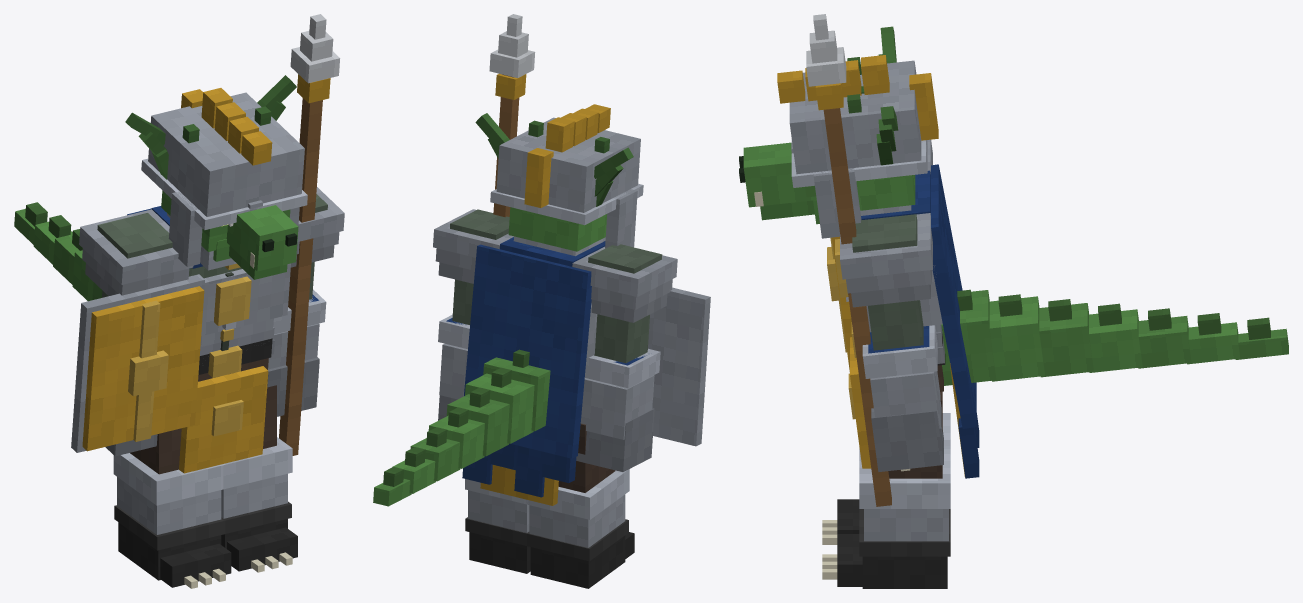
File: lizard_garde_v2.glb
3 renders of one model, left to right at view 1: azimuth 30°, elevation 25°; view 2: azimuth 150°, elevation 25°; view 3: azimuth 270°, elevation 25°, orthographic. The views are drawn at different scales.
Parts seen in each view (by area): view 1: ArmR, Head, Torso, LegR, HandL, LegL, ArmL, Root; view 2: Torso, ArmR, Head, LegR, ArmL, LegL, HandL; view 3: Torso, Head, ArmL, LegL, HandL, ArmR, LegR, Root.
Boxes of the visible parts, x1=… form: ArmR: x1=71, y1=209, x2=204, y2=456; Head: x1=125, y1=75, x2=307, y2=279; Torso: x1=14, y1=202, x2=290, y2=473; LegR: x1=113, y1=428, x2=231, y2=587; HandL: x1=279, y1=14, x2=340, y2=455; LegL: x1=221, y1=385, x2=297, y2=571; ArmL: x1=267, y1=187, x2=344, y2=416; Root: x1=184, y1=552, x2=292, y2=588; Torso: x1=373, y1=237, x2=605, y2=506; ArmR: x1=572, y1=244, x2=710, y2=471; Head: x1=475, y1=104, x2=643, y2=256; LegR: x1=526, y1=423, x2=634, y2=588; ArmL: x1=433, y1=209, x2=513, y2=420; LegL: x1=465, y1=479, x2=530, y2=573; HandL: x1=489, y1=14, x2=535, y2=217; Torso: x1=835, y1=164, x2=1288, y2=478; Head: x1=739, y1=26, x2=938, y2=238; ArmL: x1=840, y1=213, x2=943, y2=471; LegL: x1=837, y1=391, x2=950, y2=588; HandL: x1=806, y1=14, x2=891, y2=506; ArmR: x1=827, y1=139, x2=932, y2=371; LegR: x1=837, y1=413, x2=950, y2=533; Root: x1=822, y1=520, x2=837, y2=579.
Bounding box in the file's own units: 1.01 × 2.03 × 1.75.
Materials: 40 (40 with a texture image).
